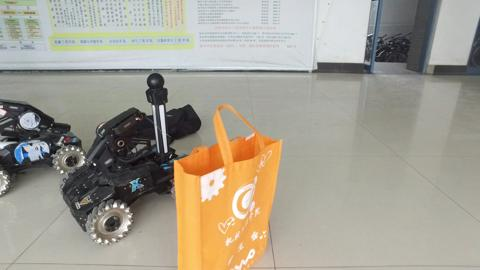bag: (177, 106, 285, 269)
chariot: (65, 75, 195, 244), (1, 94, 83, 198)
